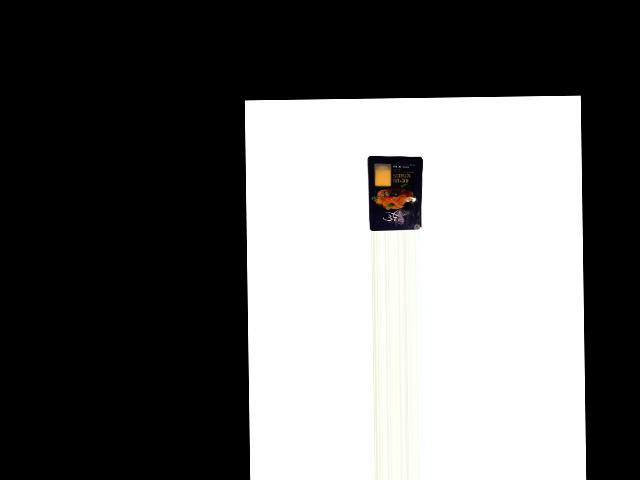cheese: (367, 155, 425, 231)
